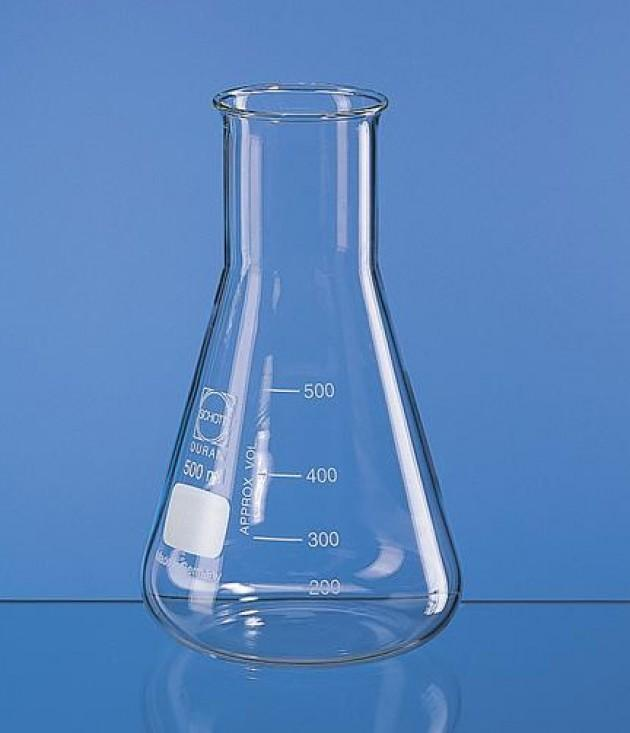Titrarion: (134, 67, 463, 661)
